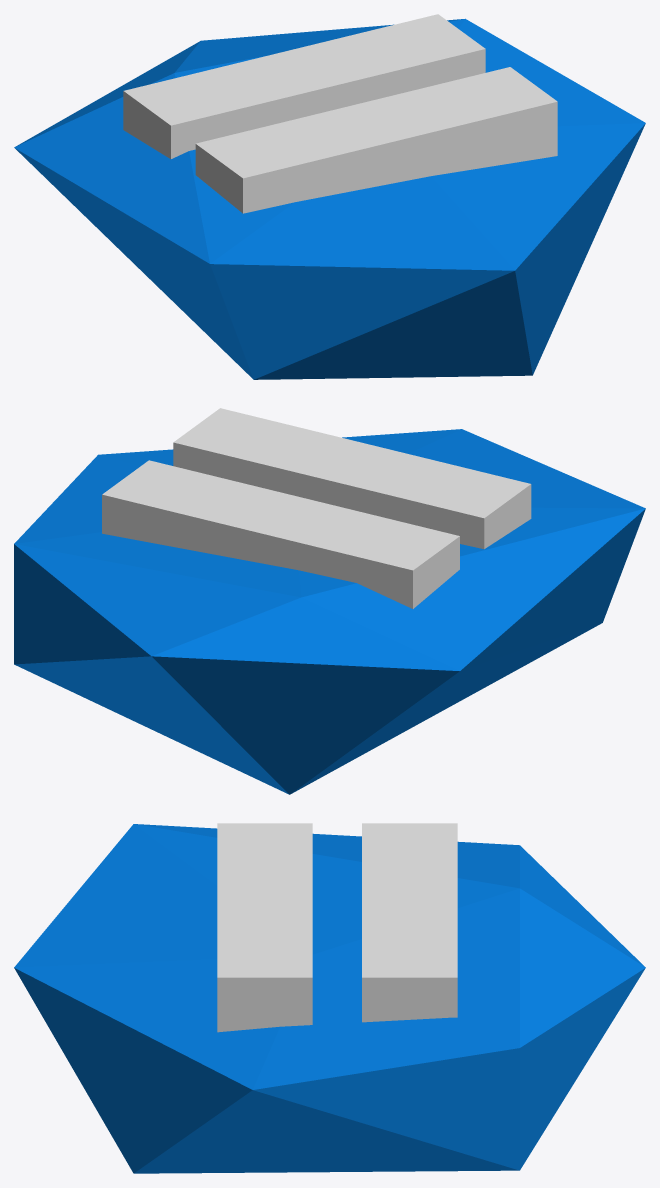
The model's file is PAUSE.fbx.
3 renders of one model, top to bottom at view 1: azimuth 30°, elevation 25°; view 2: azimuth 150°, elevation 25°; view 3: azimuth 270°, elevation 25°, orthographic.
Visible parts, largest first — view 1: pPlatonic1, pCube1, pCube2; view 2: pPlatonic1, pCube2, pCube1; view 3: pPlatonic1, pCube1, pCube2.
Boxes of the visible parts, x1=… form: pPlatonic1: x1=14, y1=18, x2=645, y2=379; pCube1: x1=195, y1=67, x2=557, y2=213; pCube2: x1=123, y1=14, x2=485, y2=158; pPlatonic1: x1=14, y1=429, x2=645, y2=794; pCube2: x1=102, y1=460, x2=459, y2=608; pCube1: x1=173, y1=408, x2=531, y2=549; pPlatonic1: x1=14, y1=824, x2=645, y2=1173; pCube1: x1=217, y1=823, x2=312, y2=1032; pCube2: x1=362, y1=823, x2=457, y2=1022.
Bounding box in the file's own units: 3.91 × 1.7 × 4.26.
